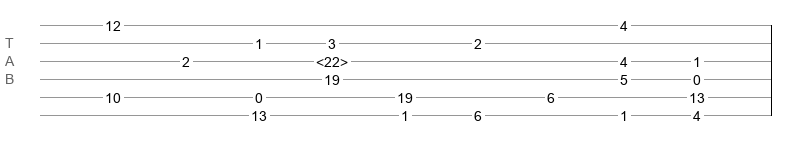0: (255, 90, 263, 100), (693, 72, 701, 82)
1: (255, 36, 263, 46), (401, 108, 409, 118), (620, 108, 628, 118), (693, 54, 701, 64)
10: (105, 90, 121, 100)
12: (105, 18, 121, 28)
13: (251, 108, 267, 118), (689, 90, 705, 100)
19: (324, 72, 340, 82), (397, 90, 413, 100)
2: (182, 54, 190, 64), (474, 36, 482, 46)
3: (328, 36, 336, 46)
4: (620, 18, 628, 28), (620, 54, 628, 64), (693, 108, 701, 118)
5: (620, 72, 628, 82)
6: (474, 108, 482, 118), (547, 90, 555, 100)
harmonic: (316, 54, 348, 64)
